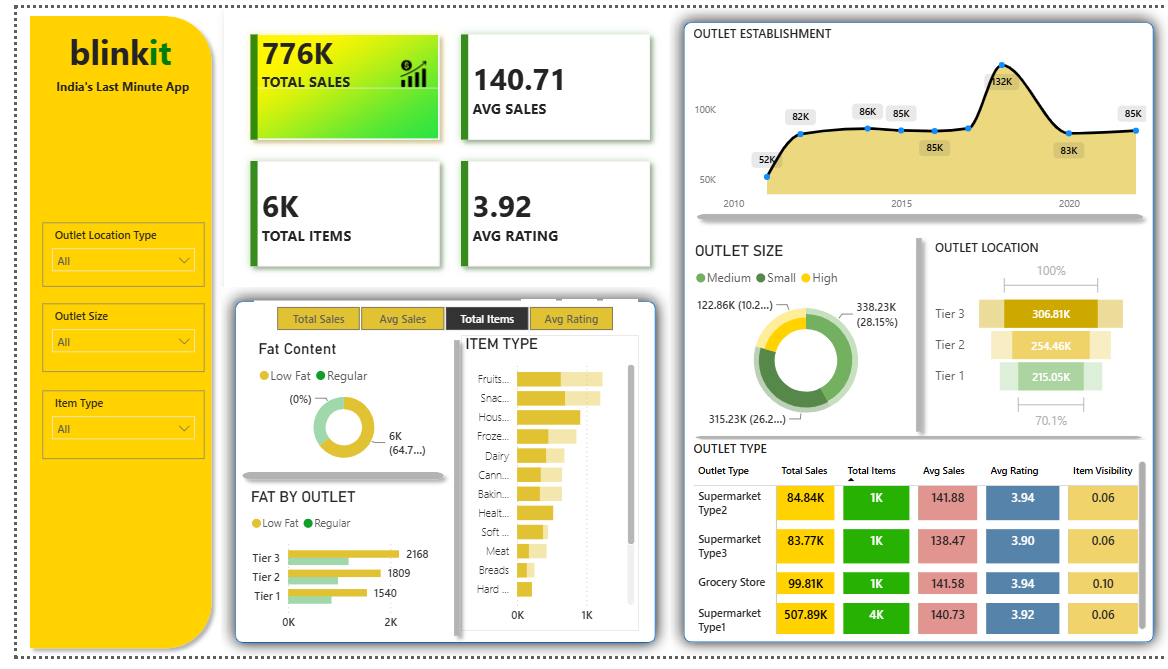

The page's visual inventory and layout, read from the dashboard file:
{"tool":"powerbi","page":{"name":"Page 1","canvas":[1280,720],"ordinal":0},"visuals":[{"type":"shape","box":[4.9,0,220.2,720.6],"z":0},{"type":"textbox","box":[0,17.8,229.9,69.6],"z":1000},{"type":"textbox","box":[0,71.2,234.8,66.4],"z":2000},{"type":"cardVisual","fields":{"Data":["BlinkIT Grocery Data.Total Sales","BlinkIT Grocery Data.Avg Sales","BlinkIT Grocery Data.Total Items","BlinkIT Grocery Data.Avg Rating"]},"box":[229.9,0,502,316],"z":3000},{"type":"shape","box":[226.7,309.3,498.7,411.3],"z":4000},{"type":"clusteredBarChart","title":" FAT BY OUTLET","fields":{"Category":["BlinkIT Grocery Data.Outlet Location Type"],"Series":["BlinkIT Grocery Data.Item Fat Content"],"Y":["BlinkIT Grocery Data.Total Items"]},"box":[254.2,532.7,228.3,166.8],"z":5000},{"type":"barChart","title":"ITEM TYPE","fields":{"Category":["BlinkIT Grocery Data.Item Type"],"Y":["BlinkIT Grocery Data.Total Items"]},"box":[493.9,362.7,197.5,328.7],"z":6000},{"type":"donutChart","title":" Fat Content","fields":{"Category":["BlinkIT Grocery Data.Item Fat Content"],"Y":["BlinkIT Grocery Data.Total Items"]},"box":[263.9,367.6,199.2,145.7],"z":7000},{"type":"slicer","fields":{"Values":["Parameter.Parameter"]},"box":[263.9,325.5,422.6,34],"z":8000},{"type":"shape","box":[476.1,359.5,24.3,346.5],"z":9000},{"type":"shape","box":[241.3,506.8,241.3,25.9],"z":10000},{"type":"shape","box":[725.4,0,553.8,720.6],"z":11000},{"type":"lineChart","title":"OUTLET ESTABLISHMENT","fields":{"Category":["BlinkIT Grocery Data.Outlet Establishment Year"],"Y":["BlinkIT Grocery Data.Total Sales"]},"box":[746.5,17.8,513.3,215.4],"z":12000},{"type":"shape","box":[746.5,220.2,513.3,24.3],"z":13000},{"type":"donutChart","title":"OUTLET SIZE","fields":{"Category":["BlinkIT Grocery Data.Outlet Size"],"Y":["BlinkIT Grocery Data.Total Sales"]},"box":[748.1,260.7,255.8,213.7],"z":14000},{"type":"shape","box":[989.3,246.1,24.3,233.2],"z":15000},{"type":"funnel","title":"OUTLET LOCATION","fields":{"Category":["BlinkIT Grocery Data.Outlet Location Type"],"Y":["Sum(BlinkIT Grocery Data.Sales)"]},"box":[1015.3,257.5,223.5,217],"z":16000},{"type":"shape","box":[744.8,466.3,513.3,21],"z":17000},{"type":"pivotTable","title":"OUTLET TYPE","fields":{"Rows":["BlinkIT Grocery Data.Outlet Type"],"Values":["BlinkIT Grocery Data.Total Sales","BlinkIT Grocery Data.Total Items","BlinkIT Grocery Data.Avg Sales","BlinkIT Grocery Data.Avg Rating","Avg(BlinkIT Grocery Data.Item Visibility)"]},"box":[746.5,479.3,513.3,220.2],"z":18000},{"type":"slicer","fields":{"Values":["BlinkIT Grocery Data.Outlet Location Type"]},"box":[27.5,238,179.7,71.2],"z":19000},{"type":"slicer","fields":{"Values":["BlinkIT Grocery Data.Outlet Size"]},"box":[27.5,328.7,179.7,76.1],"z":20000},{"type":"slicer","fields":{"Values":["BlinkIT Grocery Data.Item Type"]},"box":[29.1,424.2,179.7,76.1],"z":21000}]}

Visuals, with their boxes in screenshot pixels (x1, y1, x2, y2), scaled from the page's 1280x720 canvas onto the 1168x669 screenshot:
shape: locate(4, 0, 205, 668)
textbox: locate(0, 17, 210, 81)
textbox: locate(0, 66, 214, 128)
cardVisual - BlinkIT Grocery Data.Total Sales x BlinkIT Grocery Data.Avg Sales: locate(210, 0, 668, 294)
shape: locate(207, 287, 662, 668)
" FAT BY OUTLET" clusteredBarChart: locate(232, 495, 440, 650)
"ITEM TYPE" barChart: locate(451, 337, 631, 642)
" Fat Content" donutChart: locate(241, 342, 423, 477)
slicer - Parameter.Parameter: locate(241, 302, 626, 334)
shape: locate(434, 334, 457, 656)
shape: locate(220, 471, 440, 495)
shape: locate(662, 0, 1167, 668)
"OUTLET ESTABLISHMENT" lineChart: locate(681, 17, 1150, 217)
shape: locate(681, 205, 1150, 227)
"OUTLET SIZE" donutChart: locate(683, 242, 916, 441)
shape: locate(903, 229, 925, 445)
"OUTLET LOCATION" funnel: locate(926, 239, 1130, 441)
shape: locate(680, 433, 1148, 453)
"OUTLET TYPE" pivotTable: locate(681, 445, 1150, 650)
slicer - BlinkIT Grocery Data.Outlet Location Type: locate(25, 221, 189, 287)
slicer - BlinkIT Grocery Data.Outlet Size: locate(25, 305, 189, 376)
slicer - BlinkIT Grocery Data.Item Type: locate(27, 394, 191, 465)
